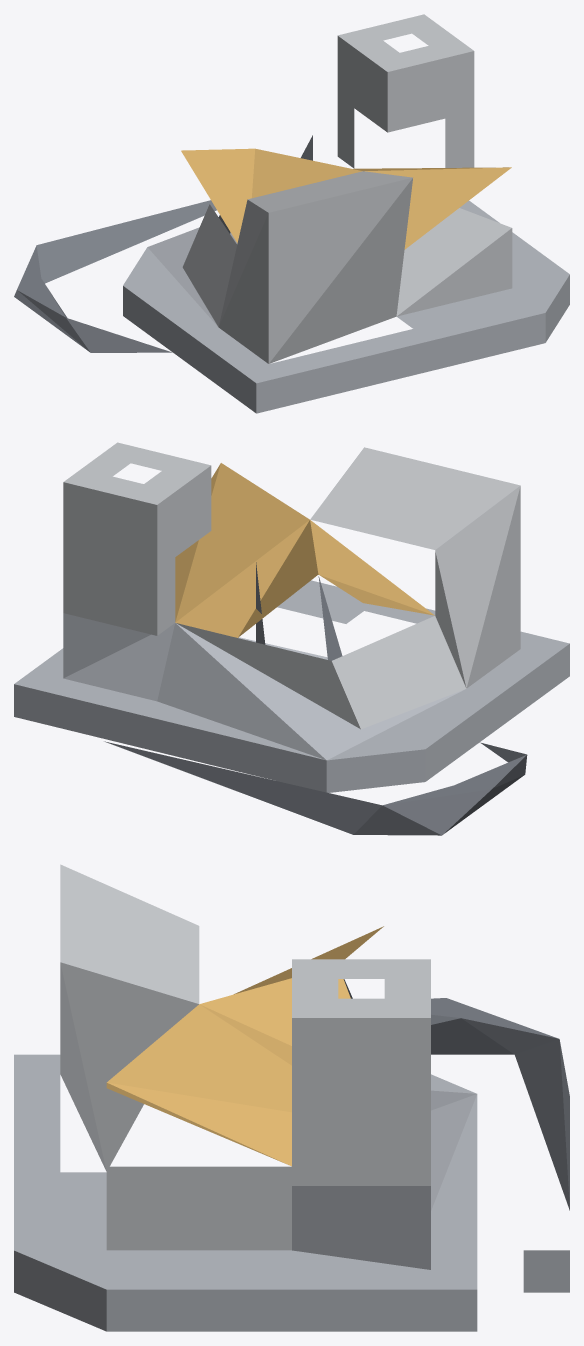
File: machine_wirelessCable.lod.glb
3 views of the same model, one above another, from view 1: azimuth 30°, elevation 25°; view 2: azimuth 150°, elevation 25°; view 3: azimuth 270°, elevation 25° (orthographic). The views are drawn at different scales.
Visible parts, largest first — view 1: machine_wirelessCable; view 2: machine_wirelessCable; view 3: machine_wirelessCable.
Part boxes in pixels (x1,y1,x2,y2): machine_wirelessCable: (14,14,569,413); machine_wirelessCable: (14,442,569,835); machine_wirelessCable: (14,864,569,1331).
Bounding box in the file's own units: 0.7451 × 0.35 × 0.6.
